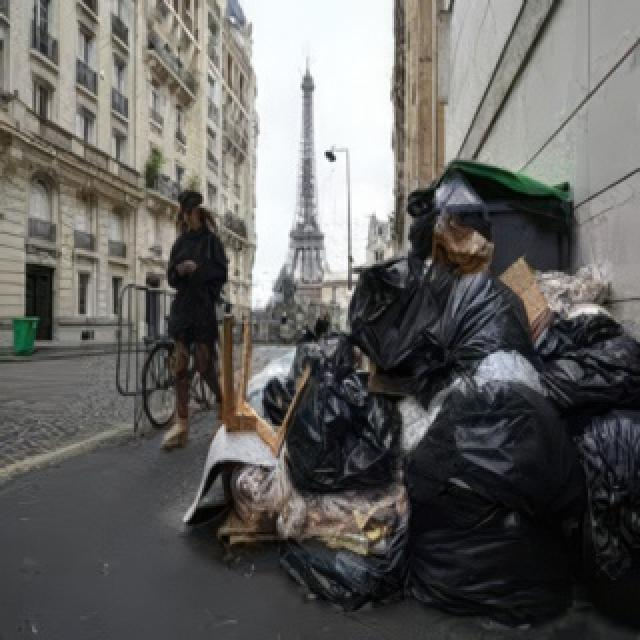high trash: (185, 214, 640, 629)
